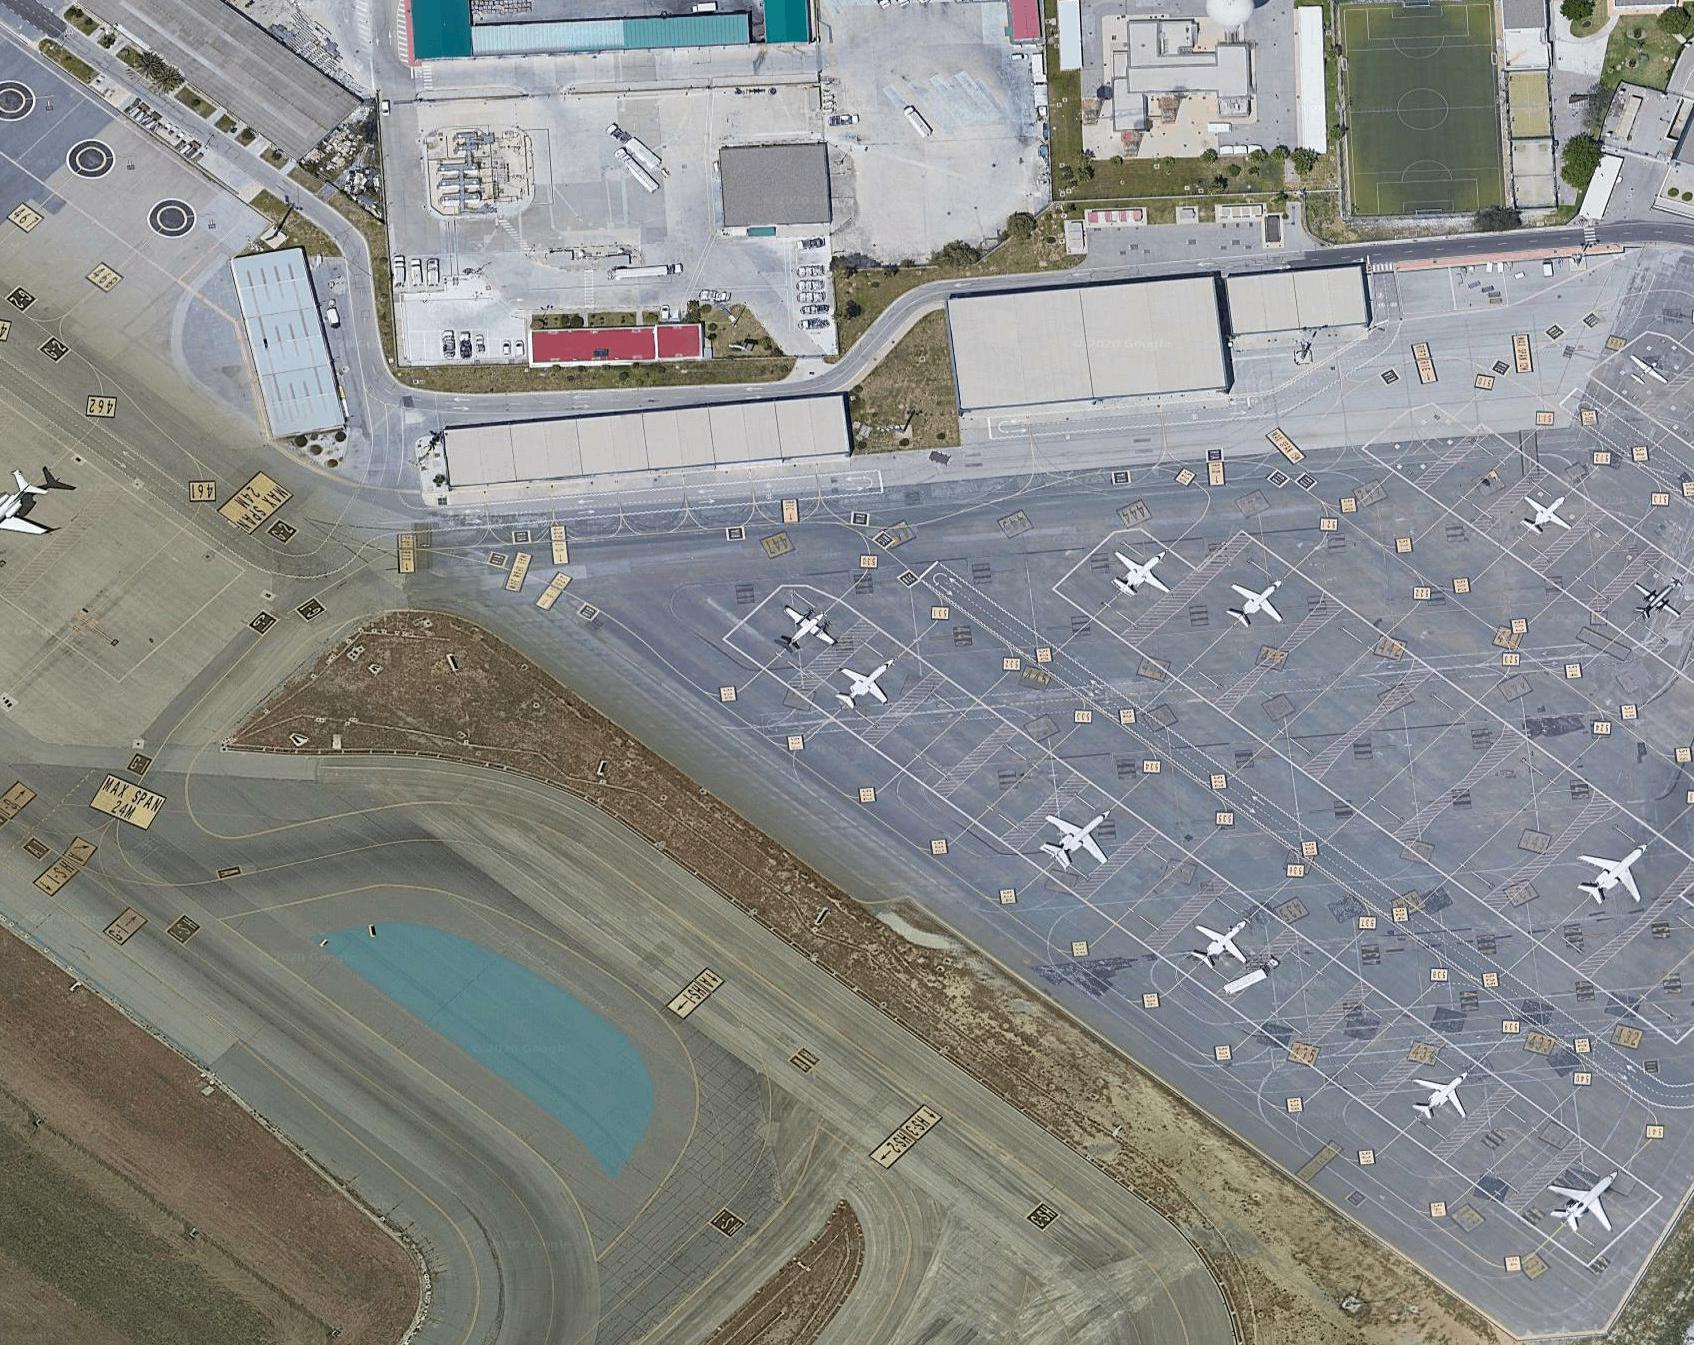plane: (1, 443, 93, 573), (1561, 822, 1661, 927), (1534, 1152, 1635, 1256), (1023, 789, 1126, 888), (1182, 901, 1268, 987), (1398, 1056, 1482, 1139), (1218, 564, 1295, 639), (1104, 536, 1181, 611), (1511, 480, 1581, 547), (830, 650, 901, 717), (771, 595, 843, 659), (1631, 573, 1688, 624), (1624, 342, 1671, 393)
soccer-ball-field: (1347, 18, 1501, 204)
